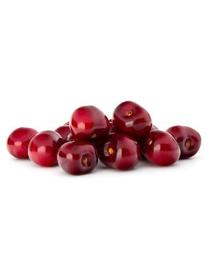cherry: (141, 129, 181, 168), (28, 127, 67, 167), (114, 100, 152, 141), (100, 134, 140, 171), (57, 139, 97, 175), (70, 106, 111, 140), (165, 124, 201, 160), (6, 127, 44, 159)
